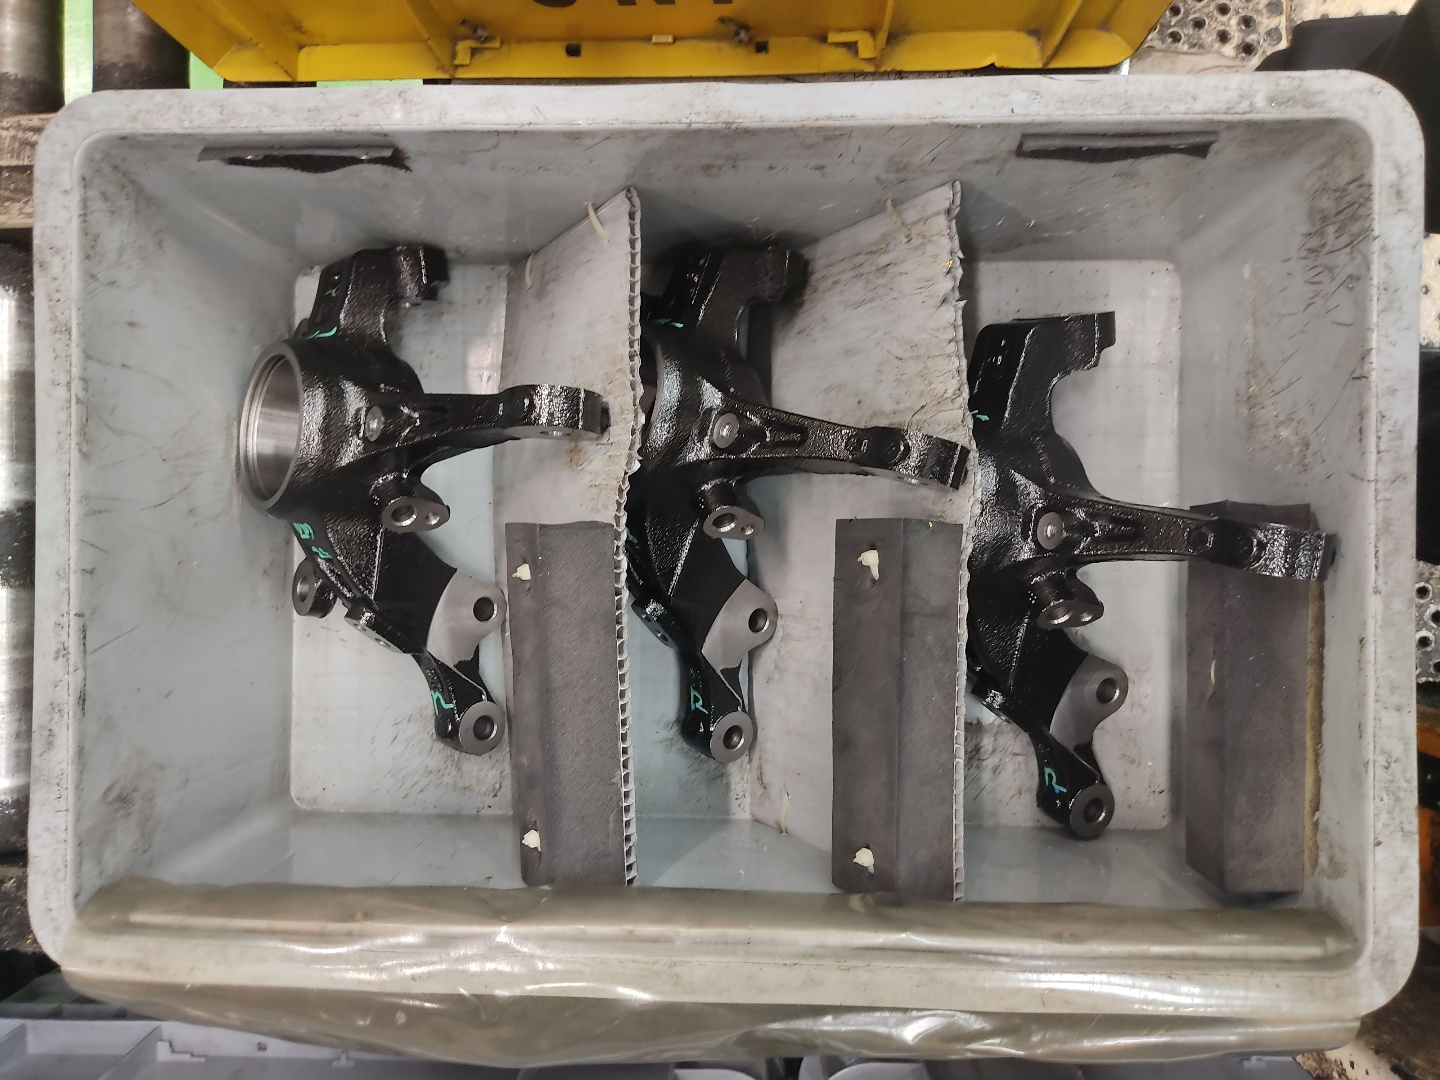abs-rh: (965, 296, 1339, 847), (232, 236, 617, 761), (625, 230, 969, 768)
